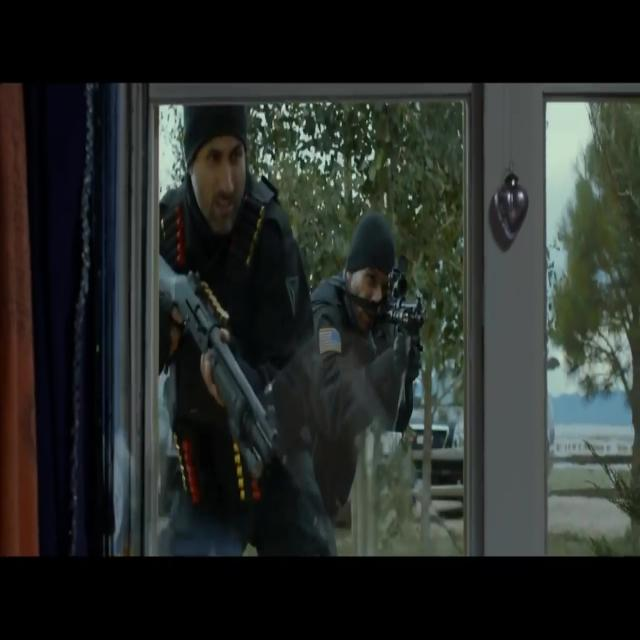Weapon: (126, 198, 292, 493), (344, 262, 450, 408)
